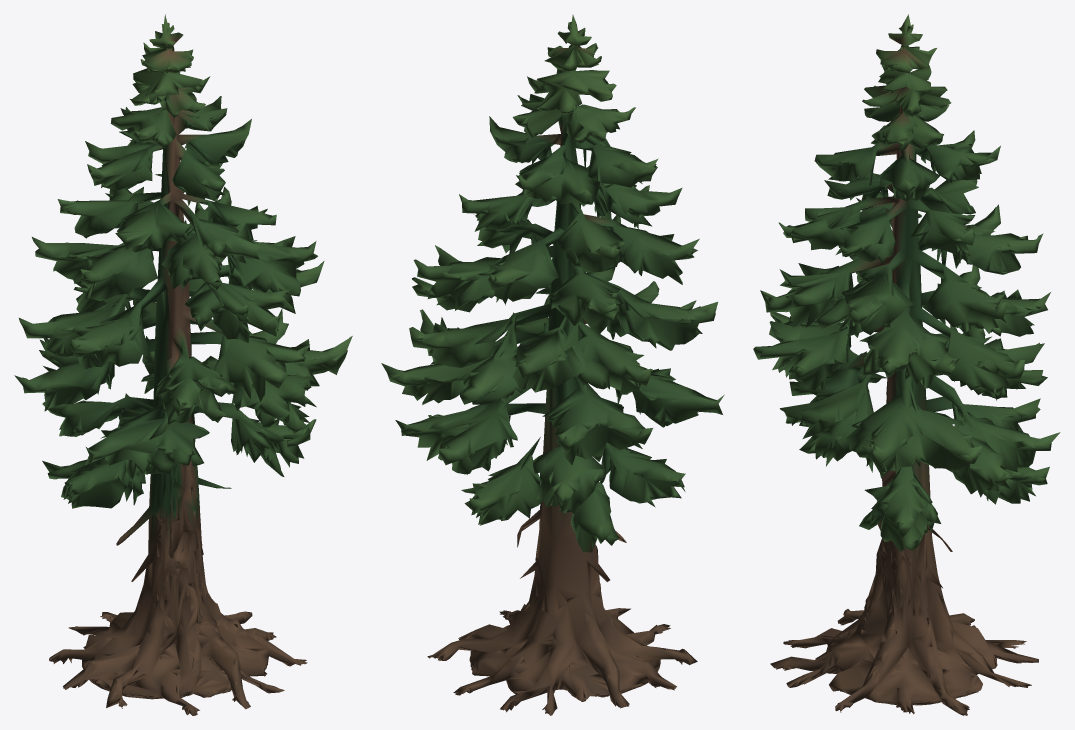
The picture shows the model from 3 angles, left to right: view 1: azimuth 30°, elevation 25°; view 2: azimuth 150°, elevation 25°; view 3: azimuth 270°, elevation 25°; orthographic projection.
Visible parts, largest first — view 1: tripo_node_162470fc-3621-491c-875f-85c0e6baa152; view 2: tripo_node_162470fc-3621-491c-875f-85c0e6baa152; view 3: tripo_node_162470fc-3621-491c-875f-85c0e6baa152.
Boxes of the visible parts, box(x1,y1,x2,y2) form: tripo_node_162470fc-3621-491c-875f-85c0e6baa152: box(14, 14, 352, 715); tripo_node_162470fc-3621-491c-875f-85c0e6baa152: box(381, 14, 724, 715); tripo_node_162470fc-3621-491c-875f-85c0e6baa152: box(753, 14, 1060, 715).
Bounding box in the file's own units: 0.4549 × 0.9773 × 0.4209.
